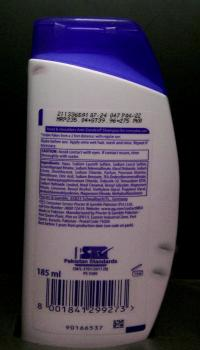dent_unacceptable: (150, 236, 176, 260), (148, 264, 170, 282), (31, 62, 51, 78)
